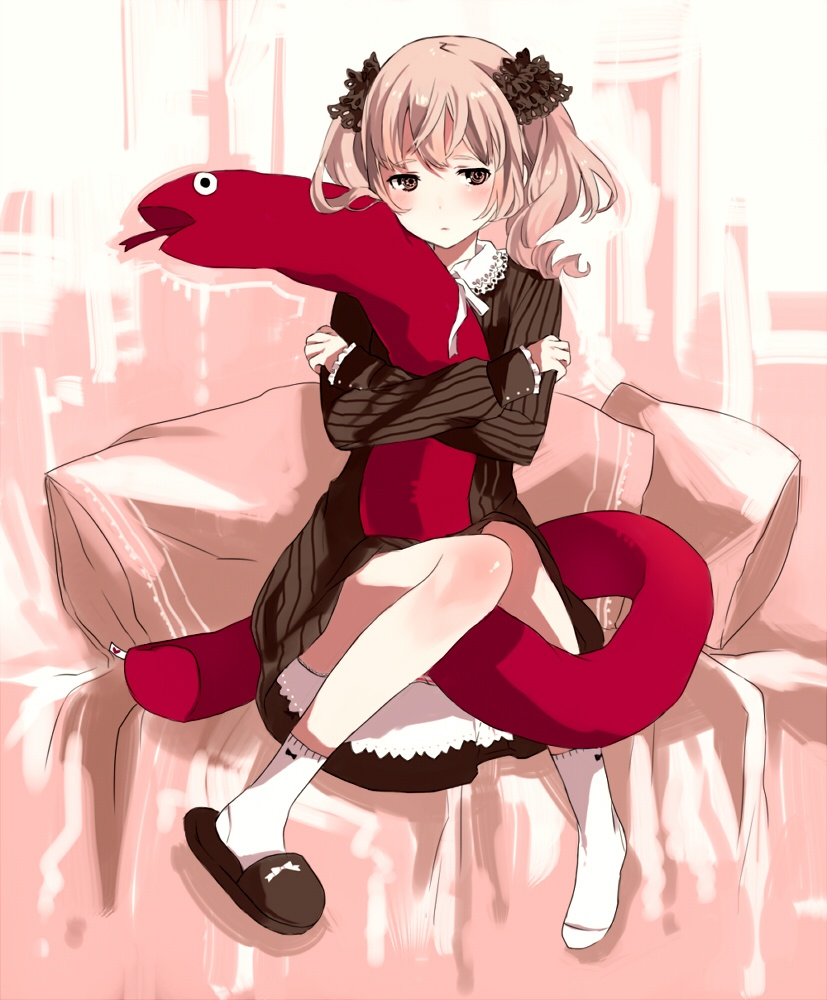纸片人正脸: (337, 31, 563, 256)
